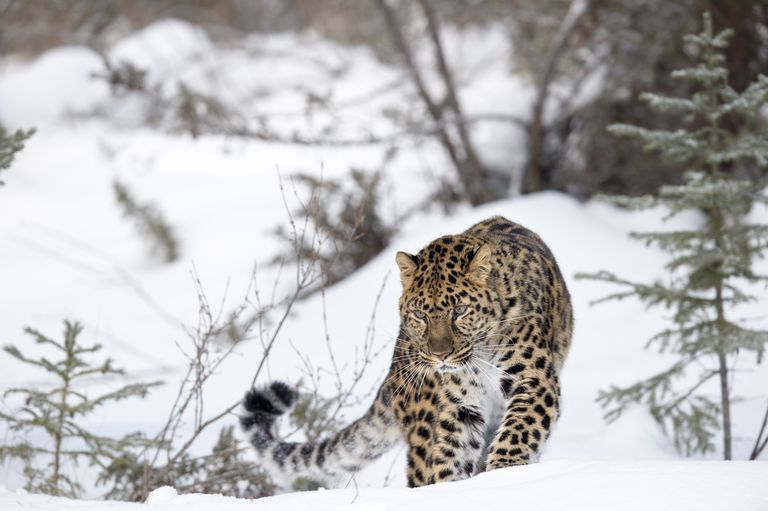amur_leopard: (378, 238, 523, 377)
